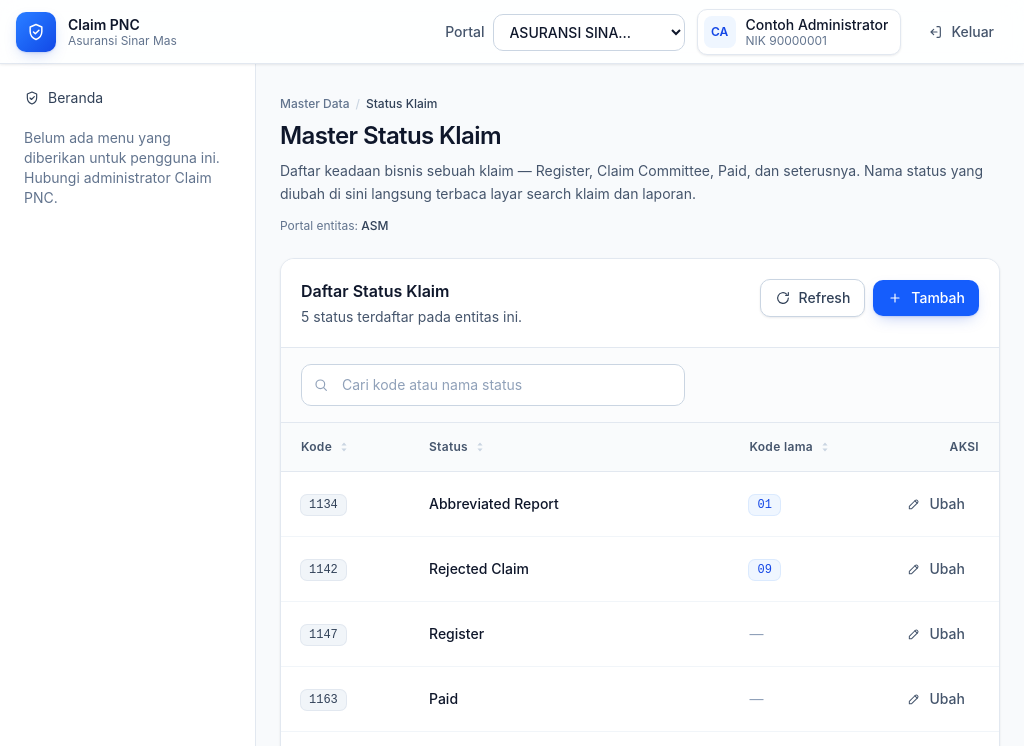
Test: daftar › menyaring baris saat pengguna mengetik di kotak cari
The image size is (1024, 746).
Expected: the text "Paid" is shown, x1=429 y1=690 x2=458 y2=706
Type "reject" into the search field. click: [493, 384]
box: x1=301 y1=364 x2=685 y2=406
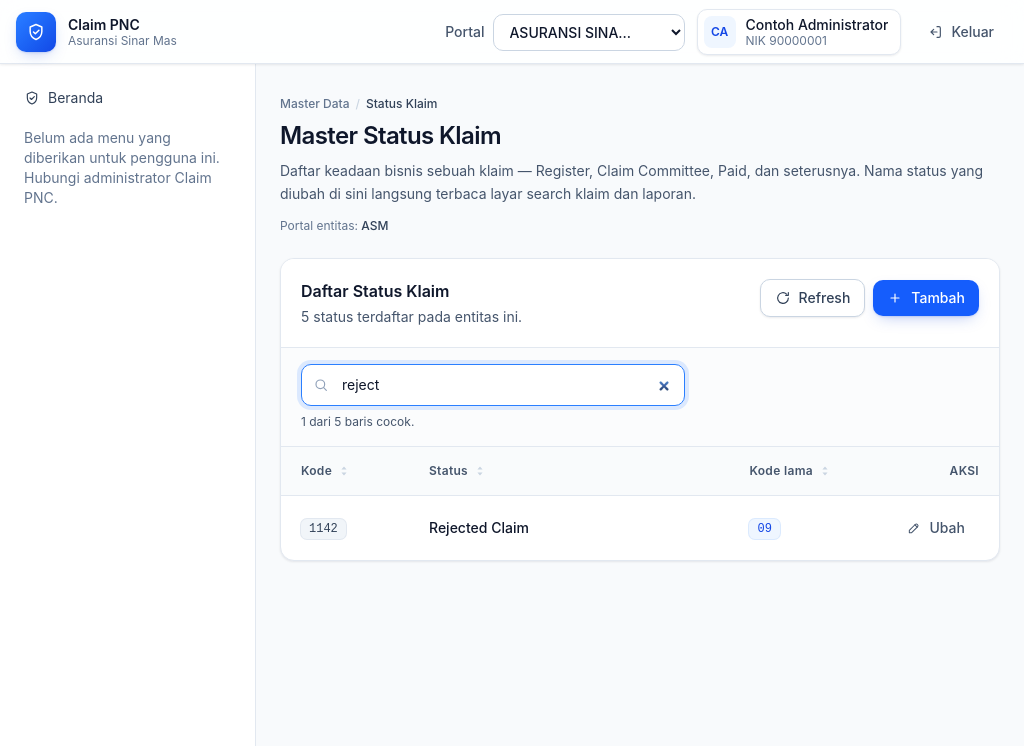
Expected: the text "Rejected Claim" is shown, x1=429 y1=518 x2=529 y2=536
Expected: the text "1 dari 5 baris cocok." is shown, x1=301 y1=414 x2=414 y2=428
